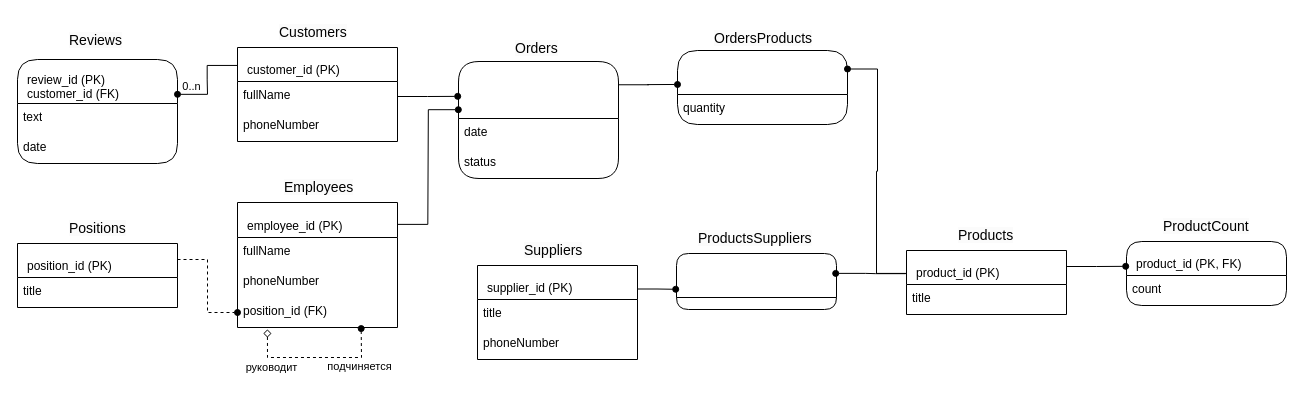
Some shapes in this 1304 by 404 pixel diagram are drawn without their labels. The shapes that lost their labels are listed below. From the top down, each one's box as (x1, y1, x2, y2) in pixels, then its label:
(676, 50, 848, 124): product_id (PK, FK) order_id (PK, FK)
(458, 60, 618, 178): order_id (PK) customer_id (FK) employee_id (FK)
(676, 252, 836, 310): product_id (PK, FK) supplier_id (PK, FK)
